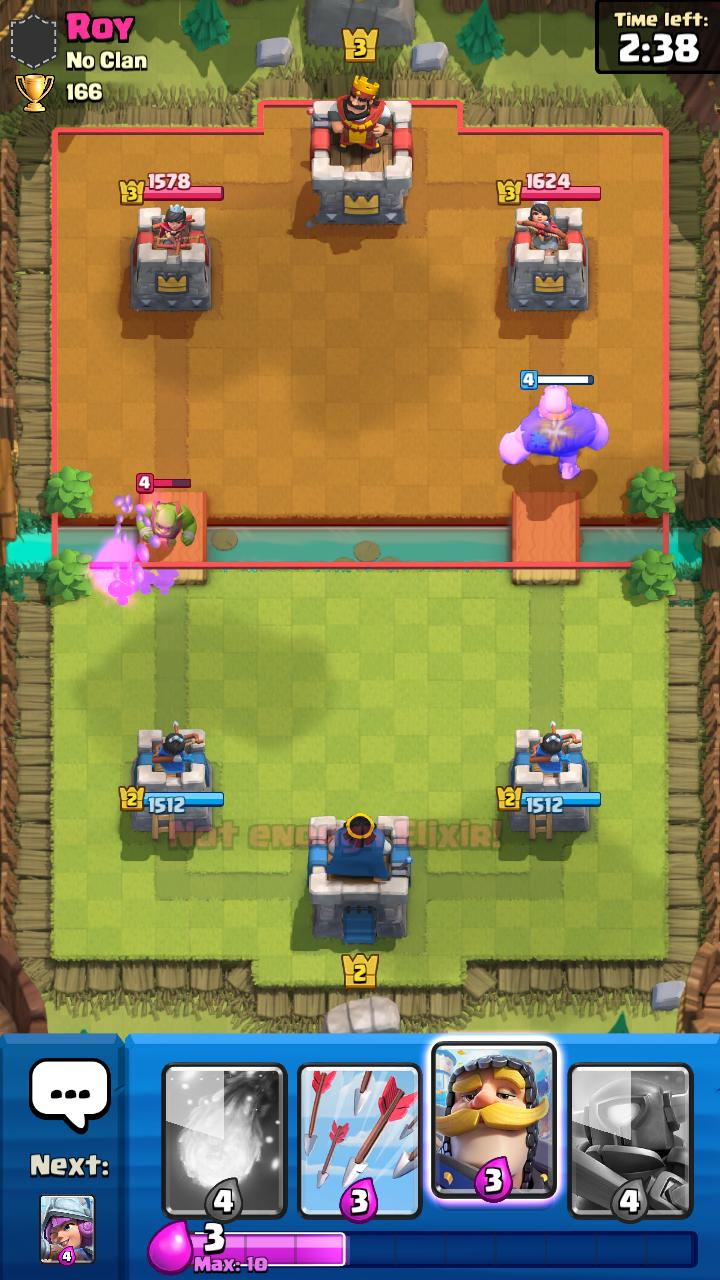ally: (500, 370, 609, 479)
enemy: (136, 473, 198, 547)
